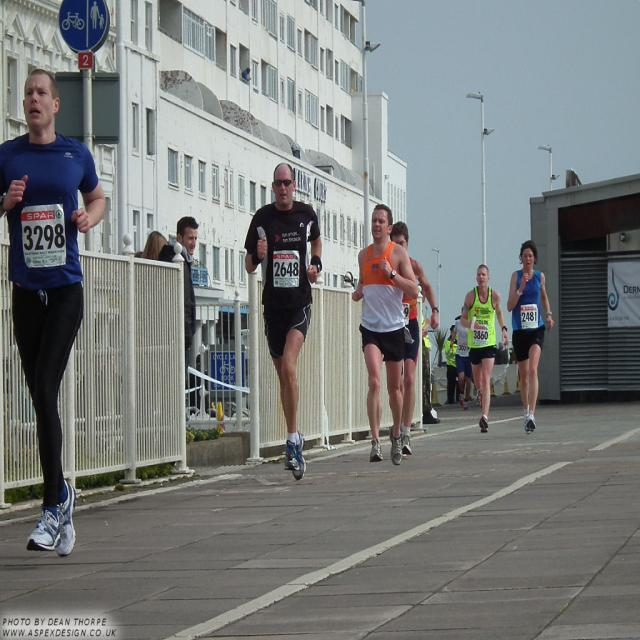Bib: (23, 224, 64, 249), (272, 259, 299, 278), (521, 309, 541, 322), (474, 328, 488, 341)
